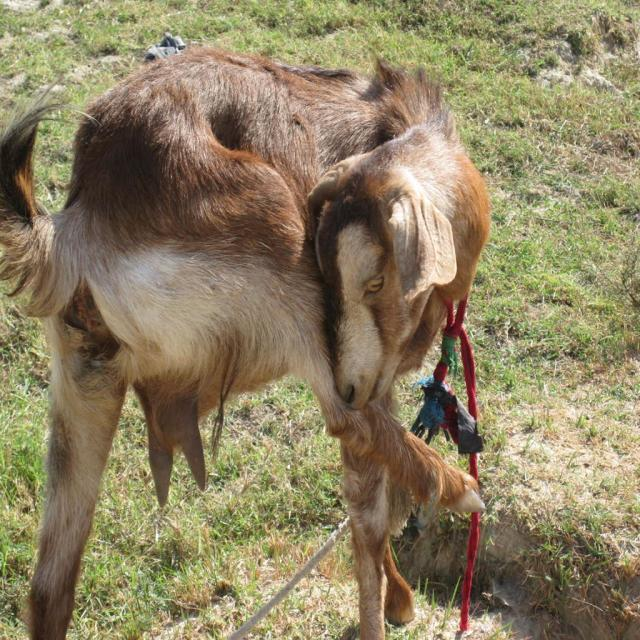Goat: (0, 40, 493, 640)
